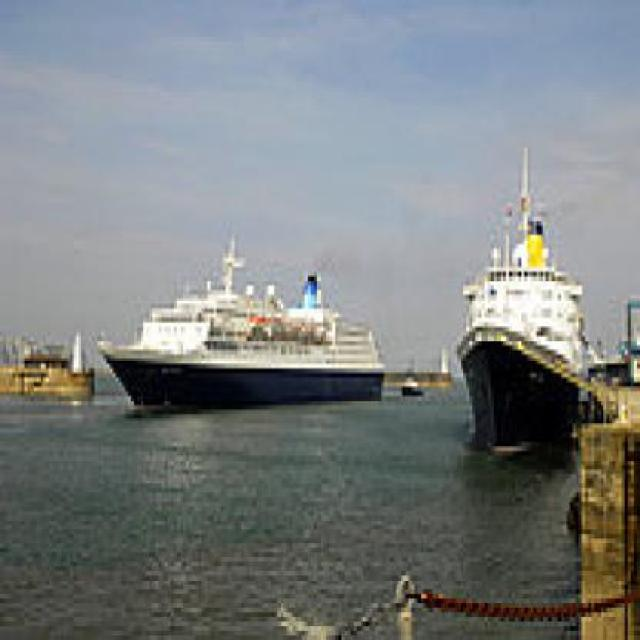cruise: (83, 213, 394, 434), (449, 121, 626, 467)
